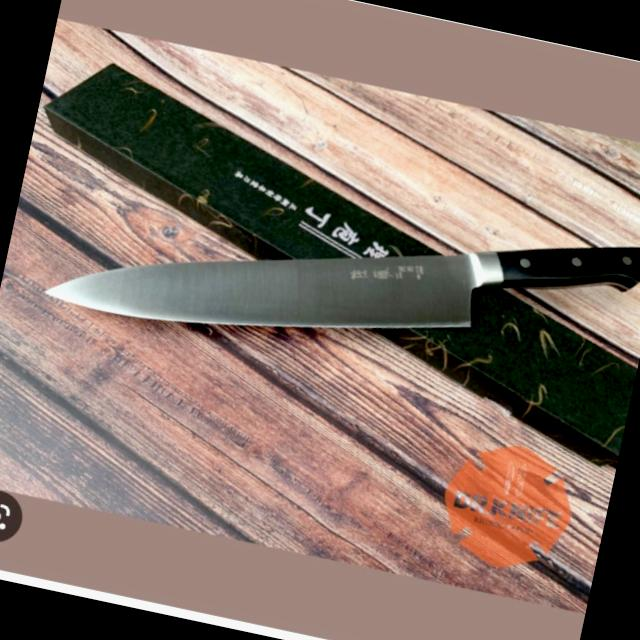knife: (25, 63, 640, 456)
